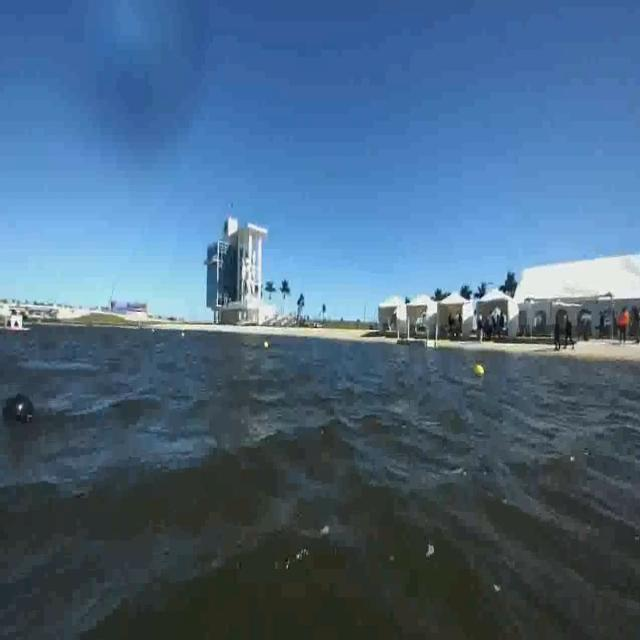black-buoy: (1, 392, 37, 443)
yellow-buoy: (475, 361, 487, 377)
